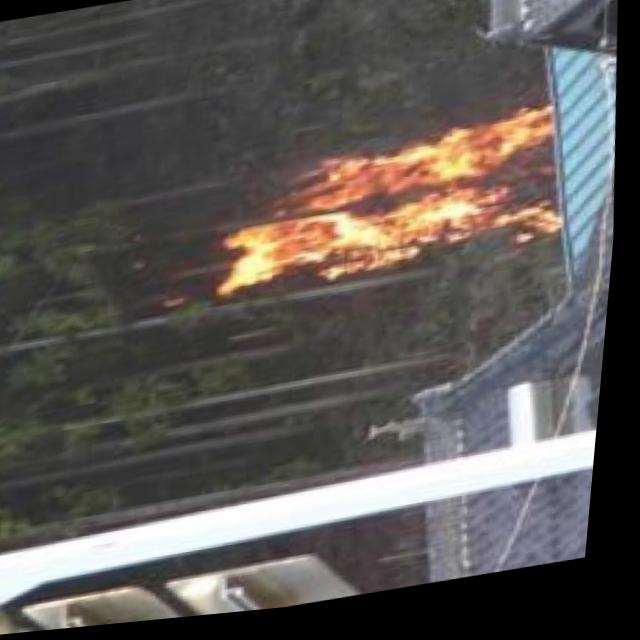Fire: (211, 112, 585, 324)
